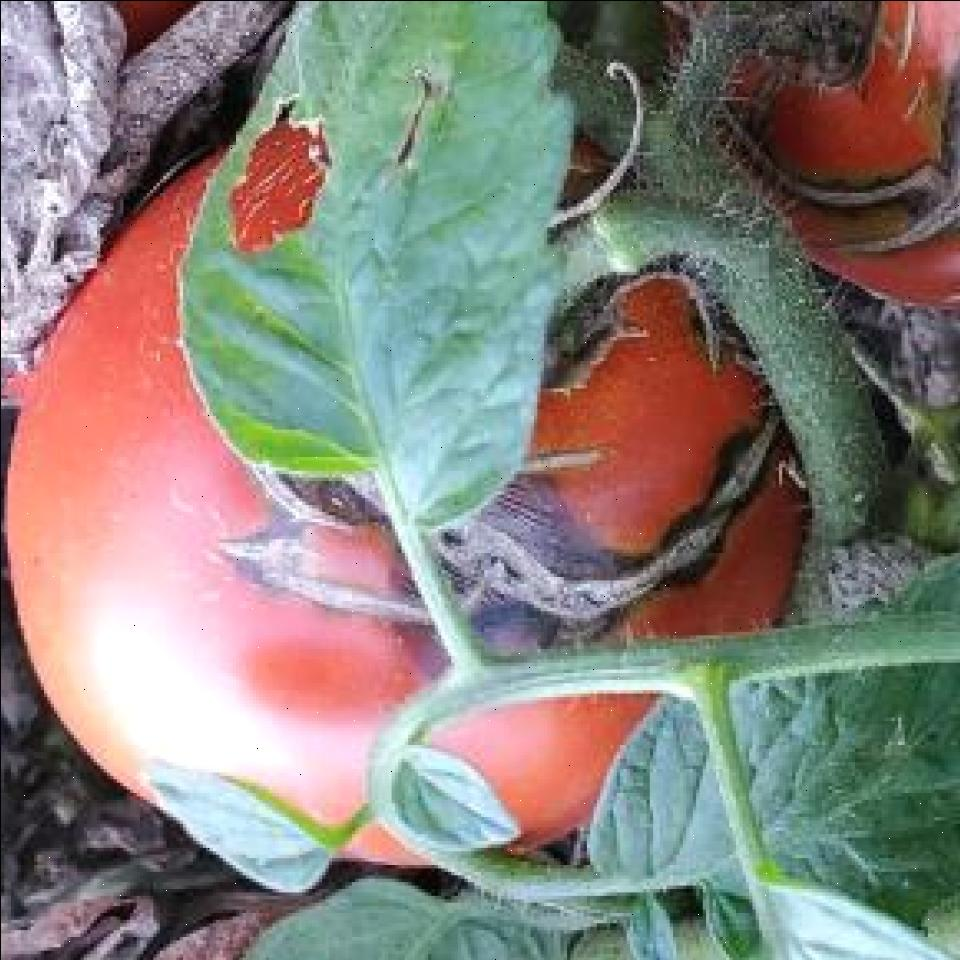Cracking: (424, 408, 810, 647), (199, 494, 478, 664), (745, 89, 960, 288)
